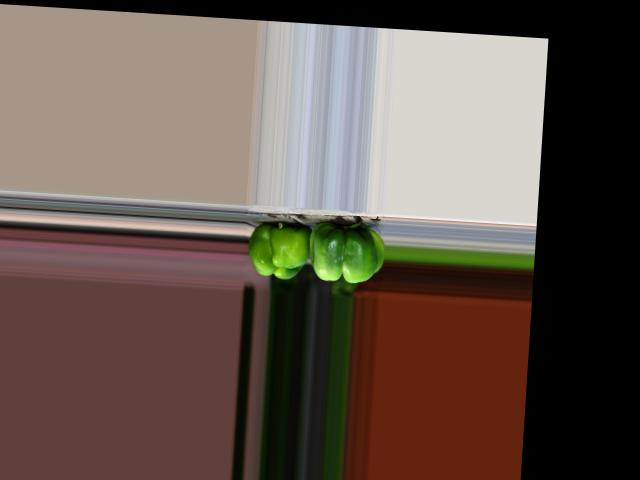bell_pepper: (244, 216, 312, 283)
